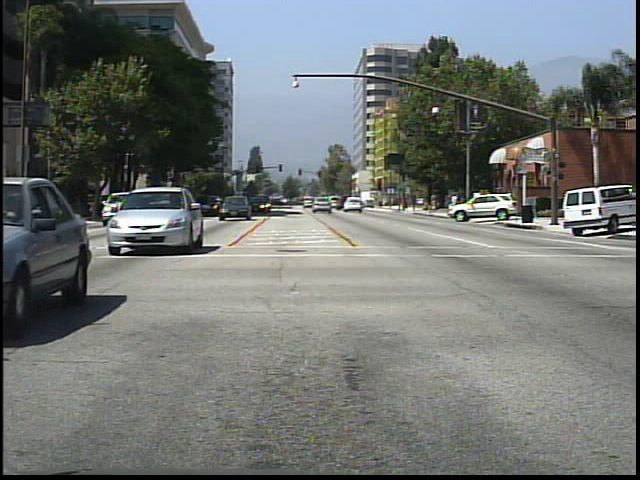person: (450, 188, 465, 219), (429, 191, 440, 214)
